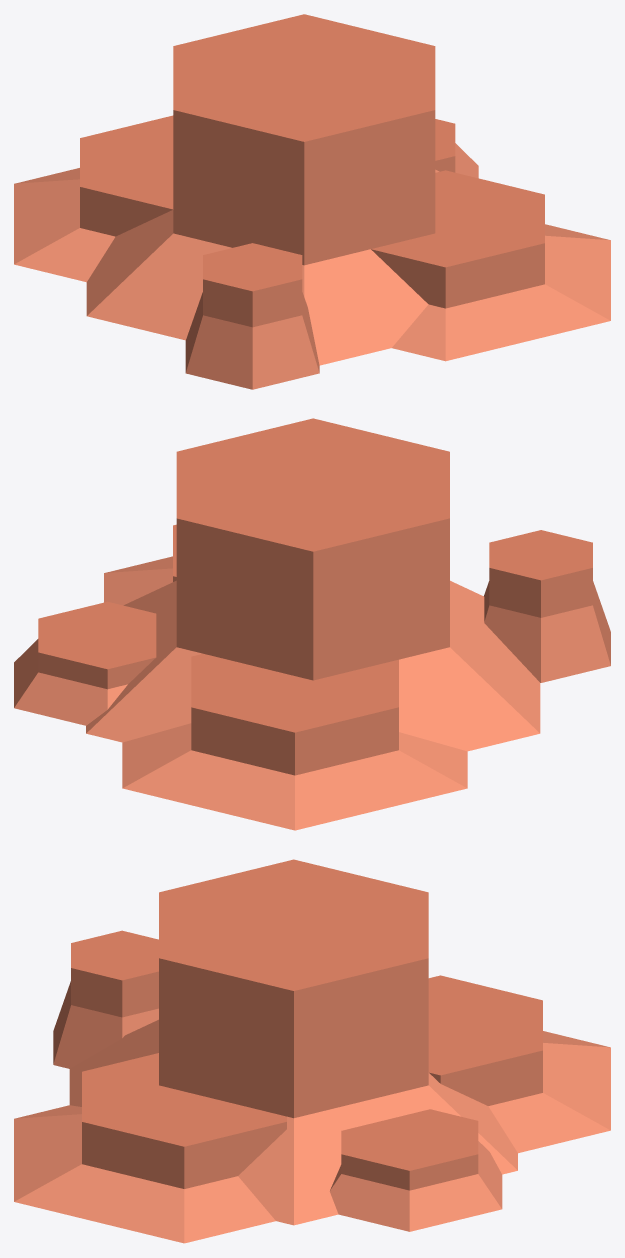
Rendered from rock.glb.
The picture shows the model from 3 angles, top to bottom: view 1: azimuth 30°, elevation 25°; view 2: azimuth 150°, elevation 25°; view 3: azimuth 270°, elevation 25°; orthographic projection. The views are drawn at different scales.
Parts seen in each view (by area): view 1: rock; view 2: rock; view 3: rock.
Boxes of the visible parts, left/top/right/bottom form: rock: left=14, top=14, right=610, bottom=389; rock: left=14, top=418, right=610, bottom=830; rock: left=14, top=859, right=610, bottom=1243.
Size of the model in its own units: 0.8015 by 0.3 by 0.8509.
